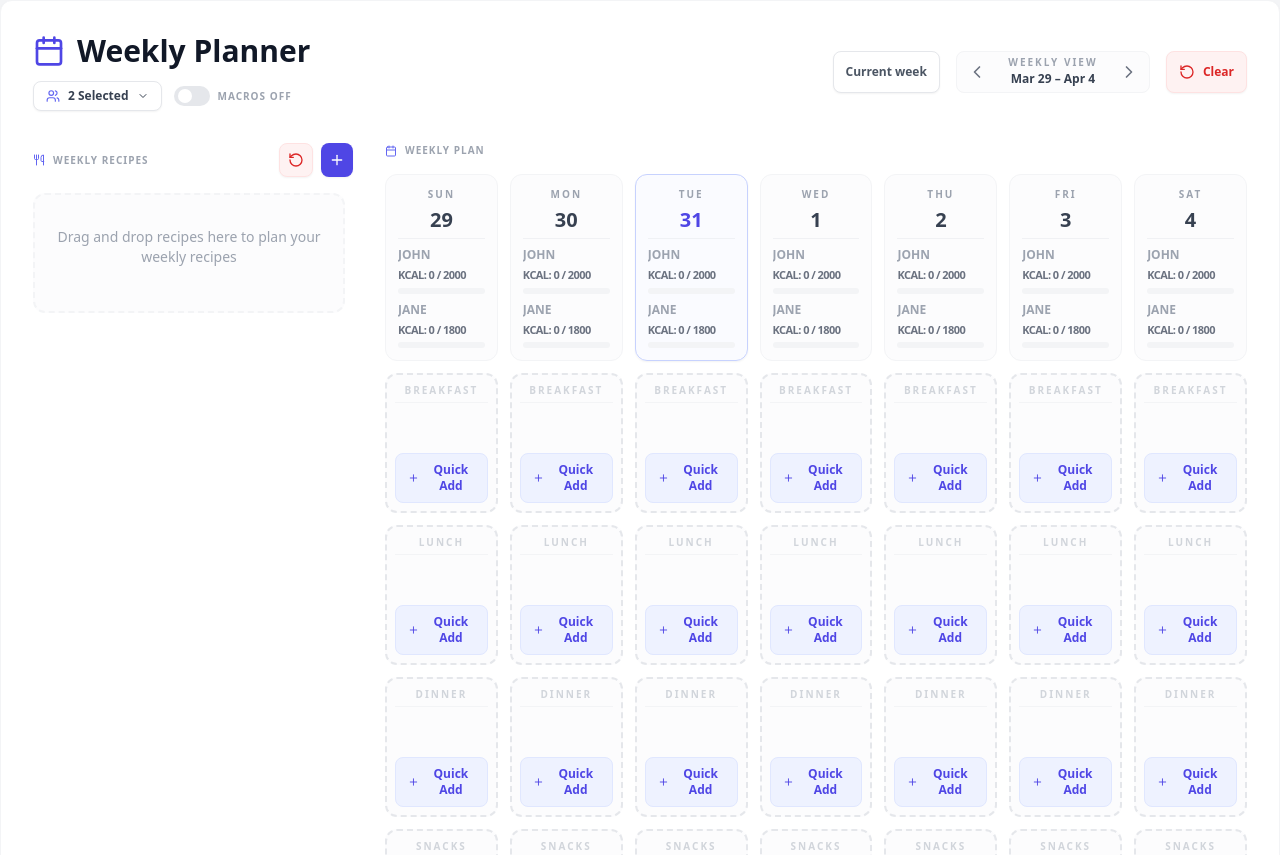
Test case: WeeklyPlanner Participant Features › shows participant selection dropdown and toggles selection
Expected: the text "2 Selected" is shown, [68, 88, 128, 104]
// Open dropdown
Click the button "2 Selected". click: click(97, 96)
box: [33, 81, 162, 111]
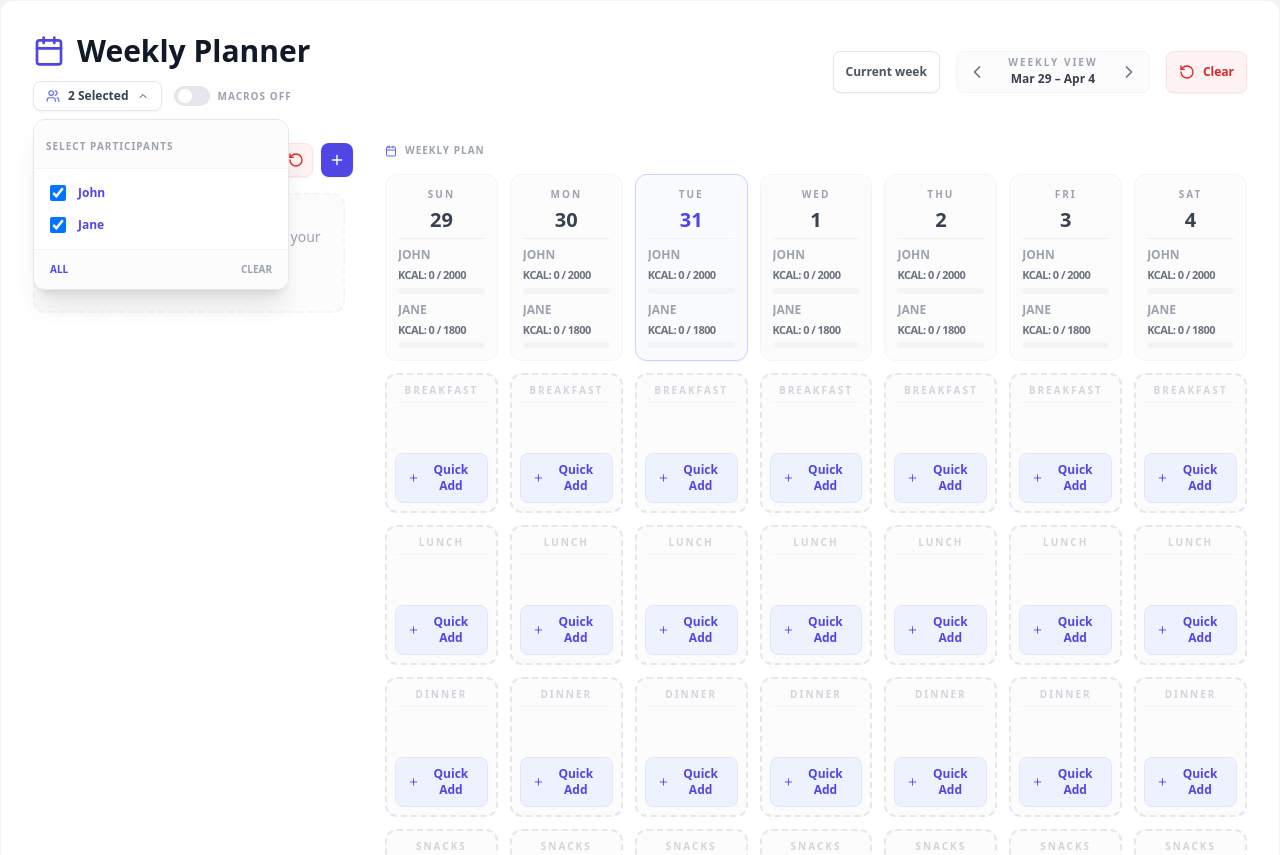
Result: the text "Select Participants" is shown at [46, 139, 174, 153]
// Toggle John off
Click the checkbox labelled "John". click: click(58, 193)
box: [50, 185, 66, 201]
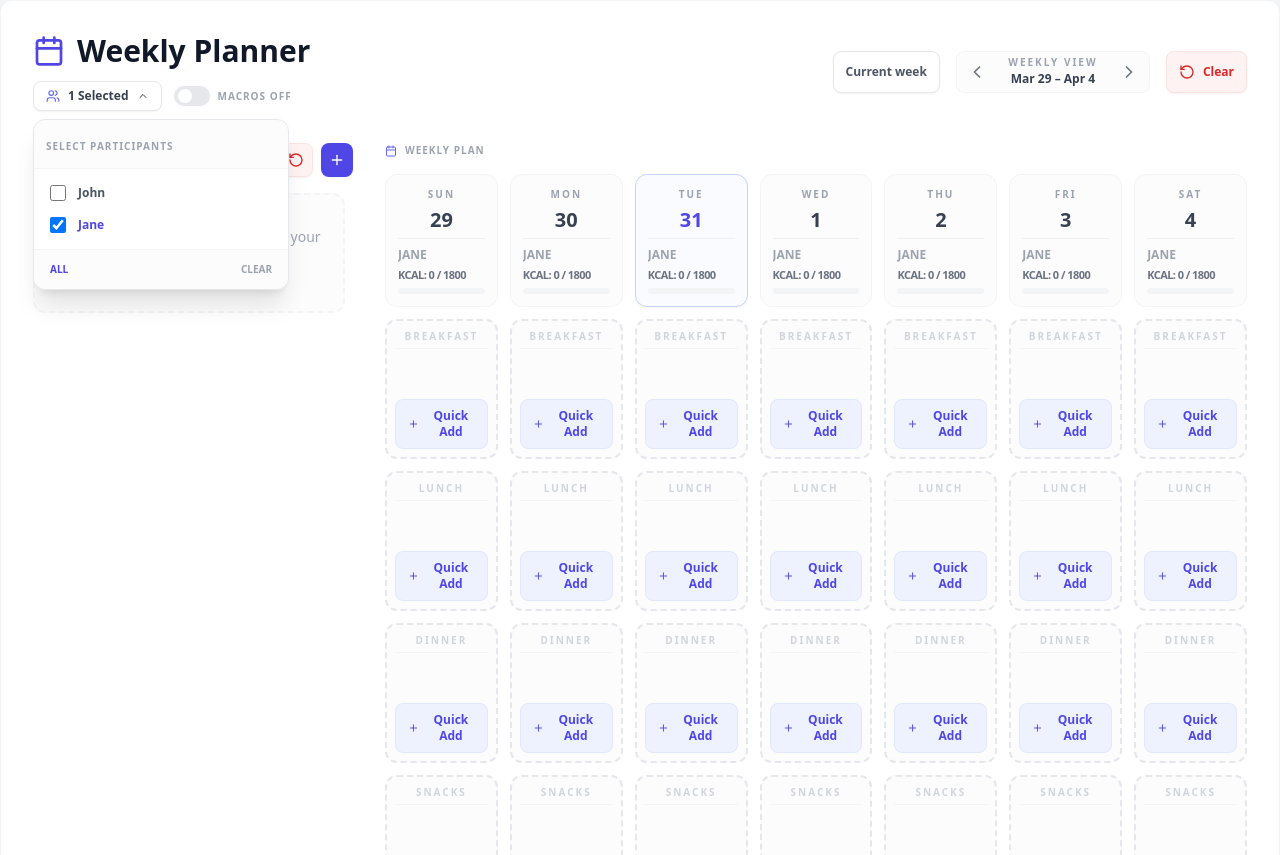
Result: the text "1 Selected" is shown at [68, 88, 128, 104]
